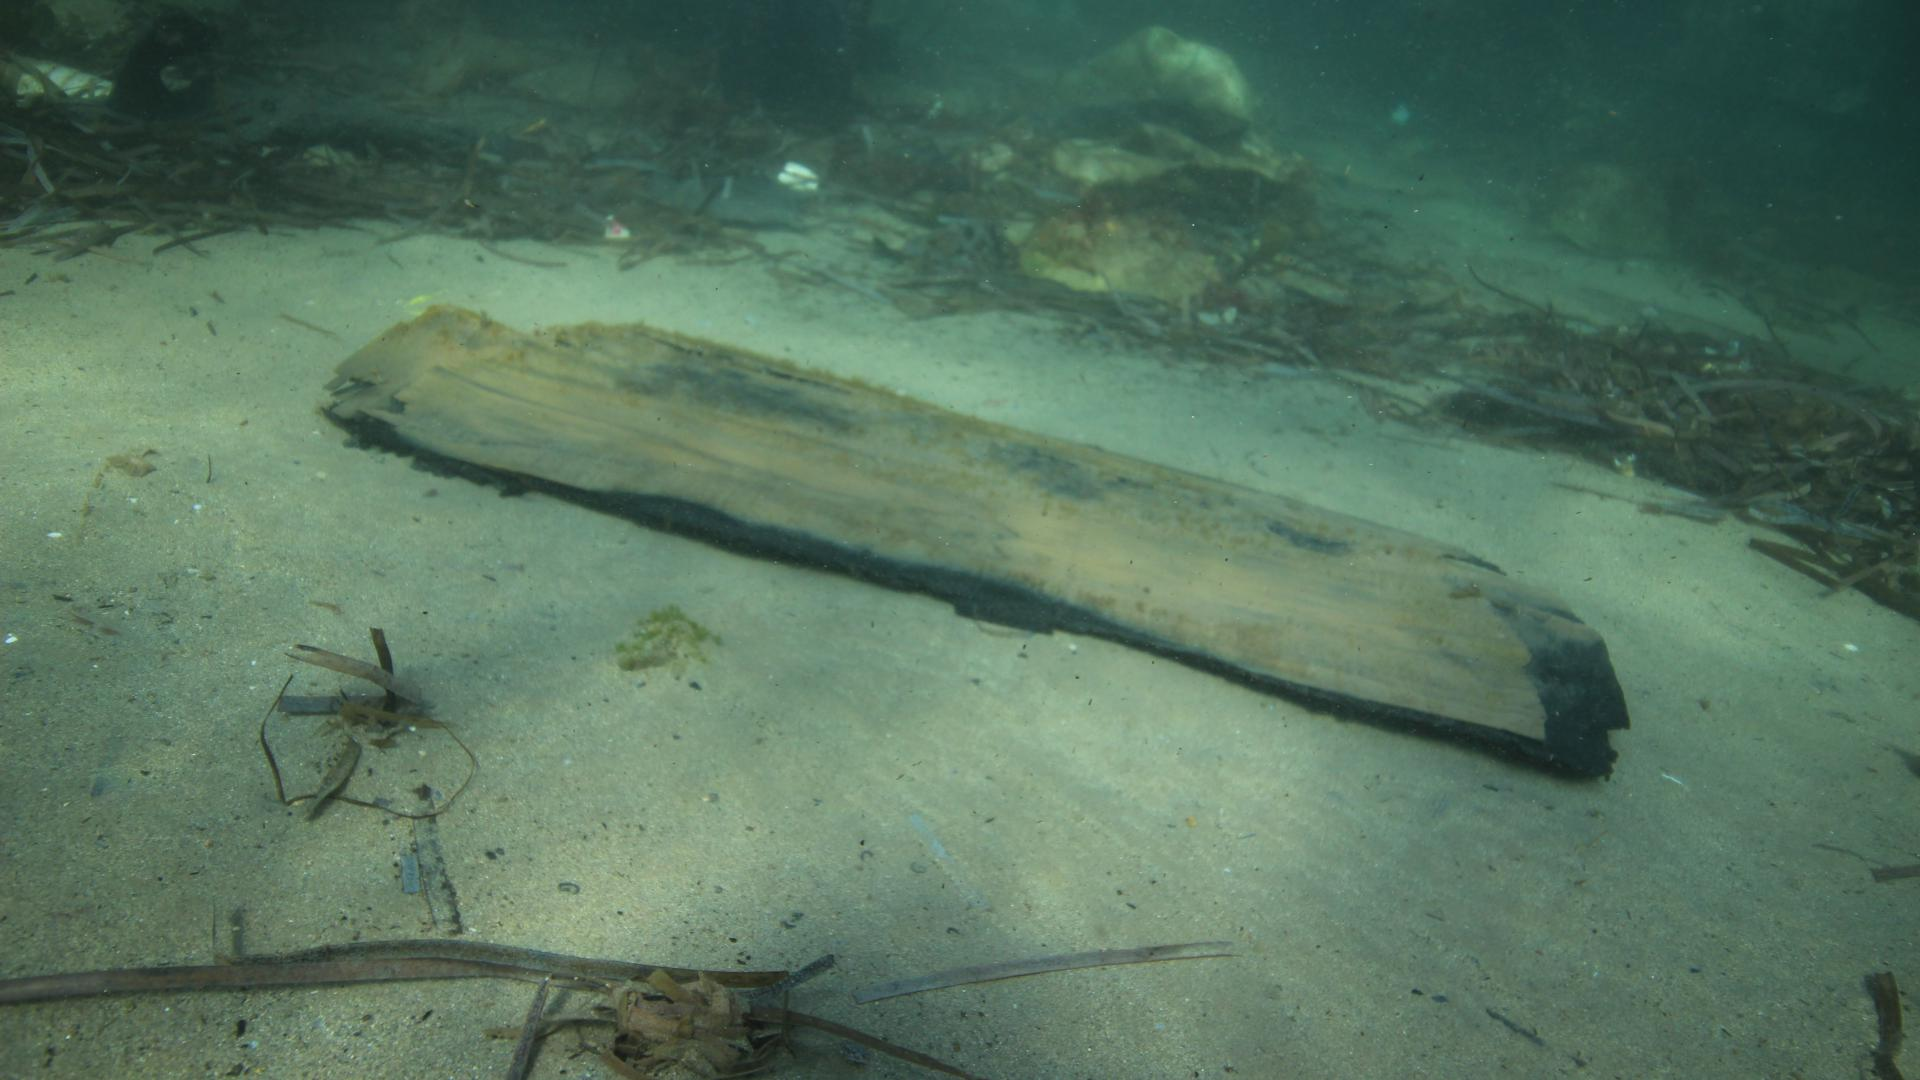wood: (322, 301, 1634, 781)
